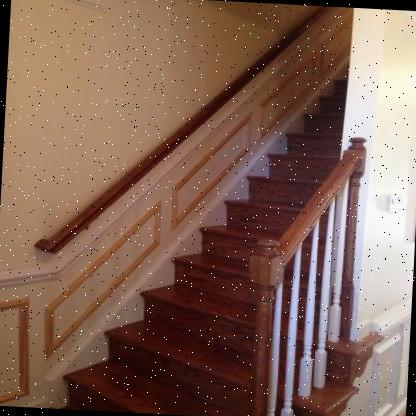stair: (55, 118, 357, 416)
